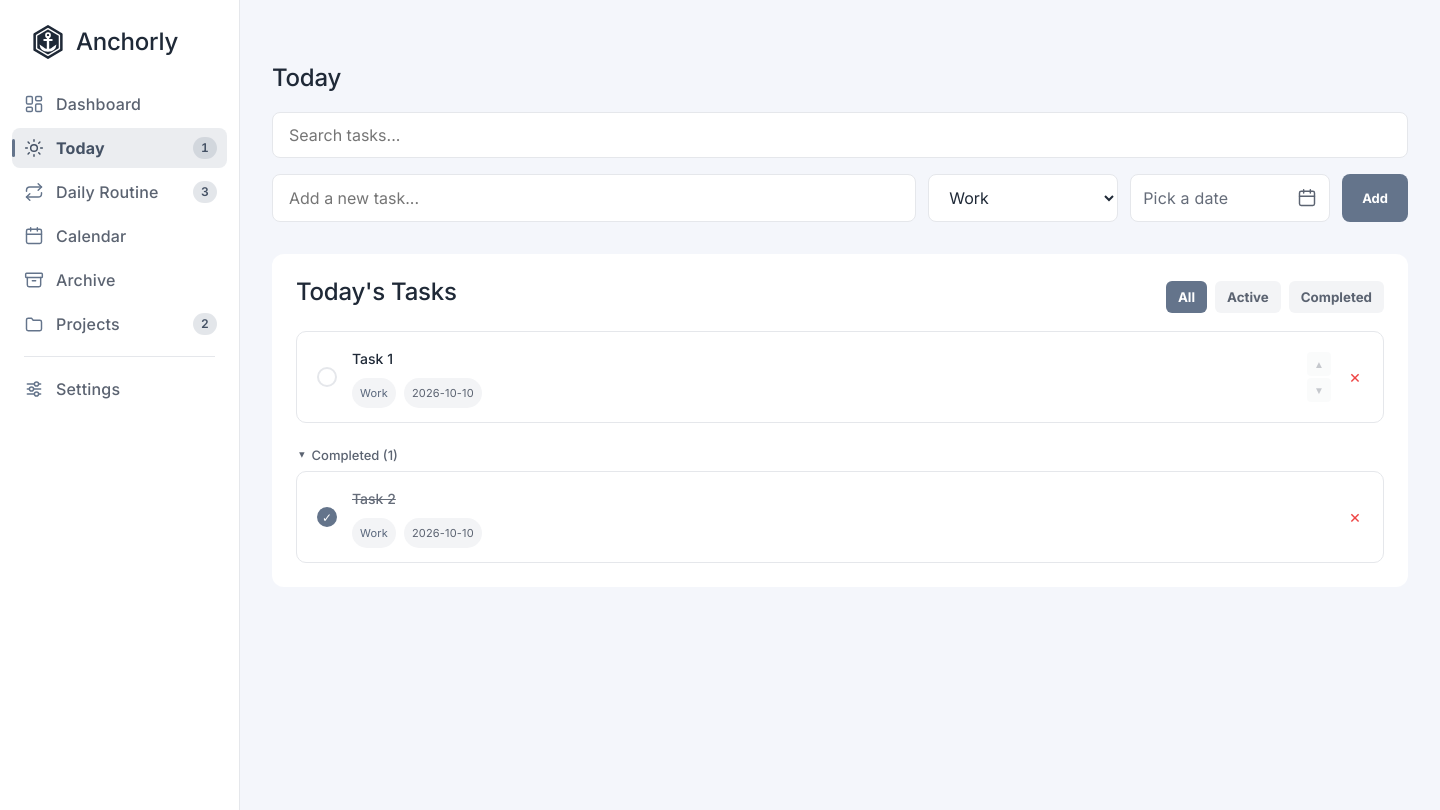
Test: App searching and filtering tasks › shows only completed tasks with the Completed filter
What coordinates should you click on to do the following:
click the button "Completed"
I would click on:
 (1336, 297)
Its box is 1289,281 -> 1384,313.
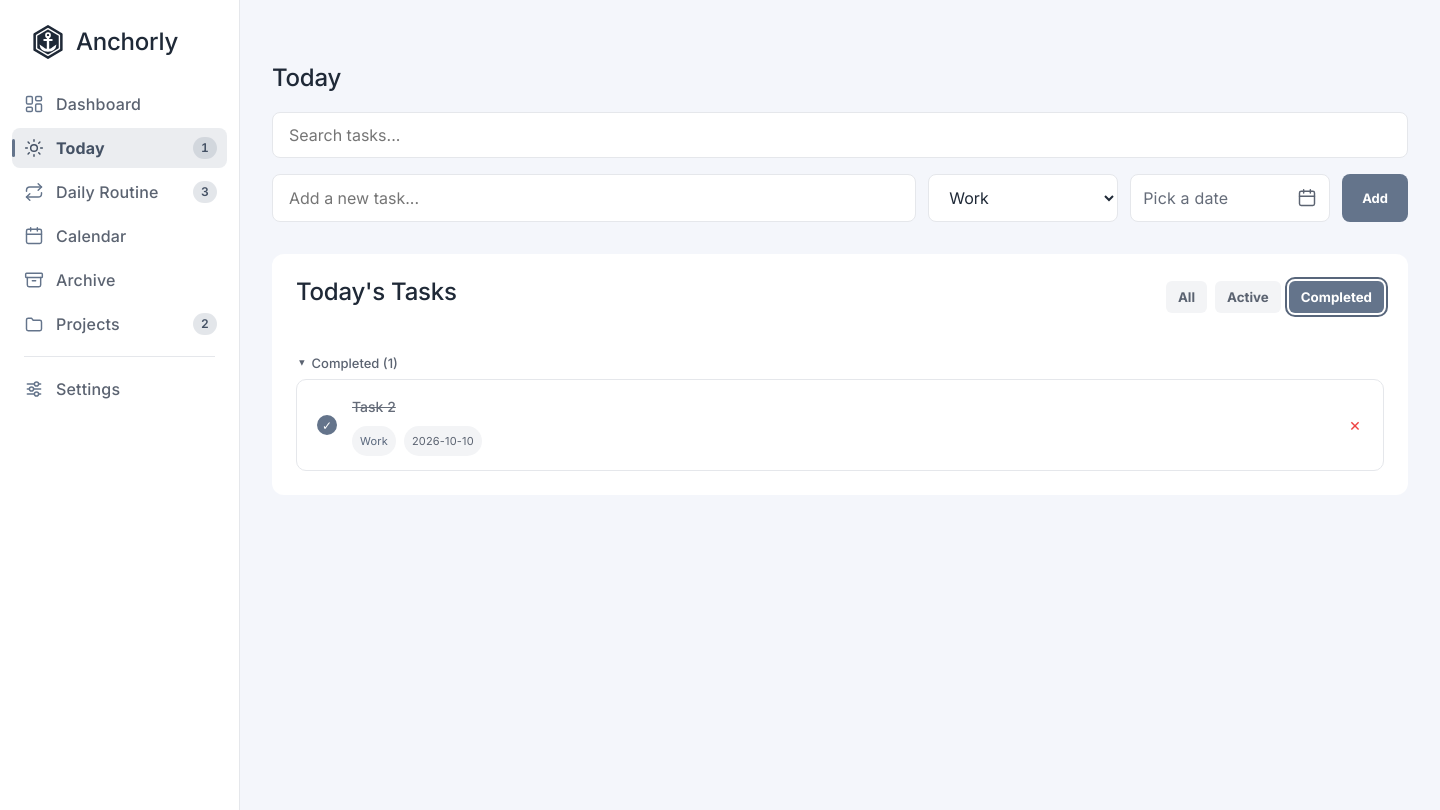
Expected: the list item "Task 2" is shown, 352,394 -> 396,420
Expected: the button "Task 1" is gone
